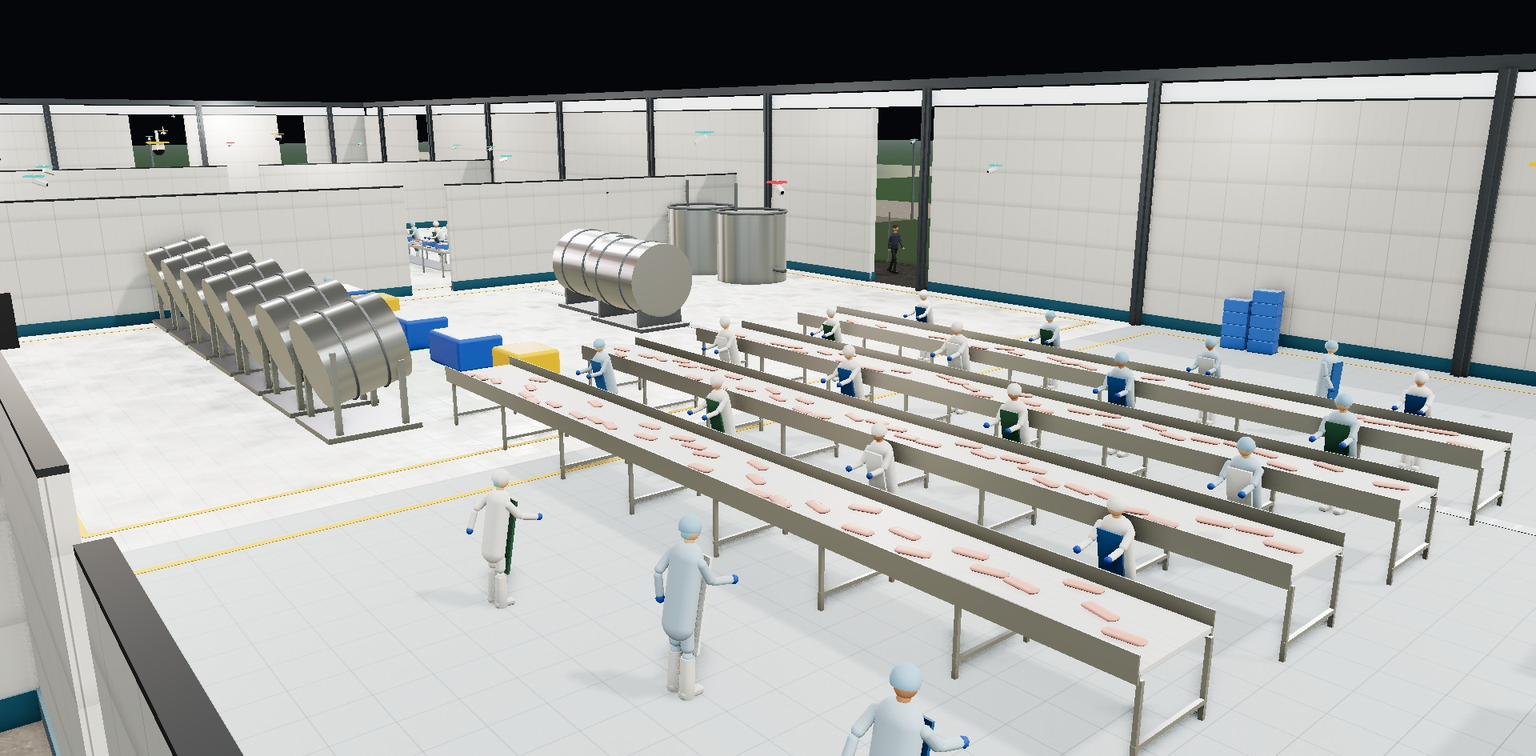apron: (675, 547, 714, 656), (1090, 522, 1133, 612), (1219, 463, 1260, 542), (877, 701, 935, 756), (1317, 418, 1357, 490), (491, 494, 522, 575), (863, 447, 893, 519), (996, 406, 1027, 472), (1398, 392, 1431, 450), (1103, 373, 1133, 435), (705, 395, 729, 456), (1193, 355, 1220, 406), (836, 365, 860, 422), (943, 340, 967, 394), (590, 358, 612, 411), (1324, 360, 1344, 414), (715, 334, 735, 385), (1037, 327, 1059, 372), (914, 305, 932, 346), (822, 323, 839, 365), (322, 290, 337, 326), (432, 231, 443, 257), (409, 230, 419, 252)
glove: (953, 730, 973, 755), (727, 571, 741, 587), (653, 591, 667, 606), (1102, 554, 1115, 567), (1071, 543, 1083, 556), (464, 524, 476, 537), (1236, 489, 1248, 501), (533, 511, 545, 523), (1205, 481, 1216, 492), (1337, 441, 1348, 451), (844, 464, 854, 474), (1307, 434, 1317, 444), (865, 471, 874, 481), (1003, 427, 1013, 436), (1327, 386, 1338, 394), (982, 421, 991, 430), (700, 414, 709, 422), (1091, 387, 1100, 395), (1113, 392, 1122, 400), (1390, 404, 1399, 412), (1416, 409, 1425, 417), (686, 409, 694, 417), (819, 377, 827, 385), (835, 381, 843, 389), (574, 369, 582, 376), (585, 373, 593, 380), (929, 351, 936, 358), (946, 355, 953, 362), (1185, 366, 1192, 373), (1204, 370, 1212, 376), (1323, 383, 1331, 389), (701, 345, 707, 352), (713, 349, 720, 355), (809, 331, 815, 337), (1028, 337, 1034, 343), (915, 315, 921, 321), (821, 334, 827, 339), (1043, 340, 1049, 345), (903, 313, 908, 318), (311, 299, 317, 303), (340, 304, 345, 308), (423, 236, 427, 239), (427, 237, 431, 240), (402, 234, 405, 237), (405, 235, 408, 237)
hairnet: (882, 650, 932, 700), (673, 506, 709, 539), (1101, 488, 1132, 515), (487, 463, 515, 486), (1232, 432, 1260, 454), (866, 418, 891, 439), (1331, 389, 1357, 409), (1003, 379, 1026, 397), (1110, 348, 1132, 365), (706, 370, 727, 387), (1410, 368, 1432, 384), (839, 342, 858, 357), (590, 336, 608, 350), (948, 318, 966, 332), (1322, 338, 1343, 350), (1201, 334, 1220, 347), (716, 313, 733, 326), (1042, 308, 1058, 320), (824, 305, 838, 316), (917, 288, 931, 298), (321, 274, 334, 283), (431, 220, 440, 226), (408, 220, 416, 225)
person: (646, 496, 742, 711), (828, 628, 978, 756), (1064, 481, 1155, 658), (459, 455, 549, 618), (1196, 426, 1280, 583), (1297, 384, 1375, 526), (843, 413, 910, 555), (978, 375, 1043, 505), (1381, 364, 1446, 480), (1086, 345, 1148, 465), (685, 367, 744, 487), (818, 339, 874, 451), (1293, 335, 1353, 439), (926, 315, 981, 421), (573, 333, 626, 436), (1179, 331, 1233, 431), (700, 311, 748, 409), (1025, 306, 1070, 394), (809, 303, 850, 386), (901, 286, 942, 366), (308, 273, 349, 344), (422, 219, 451, 269), (881, 223, 906, 275), (400, 219, 426, 262)
